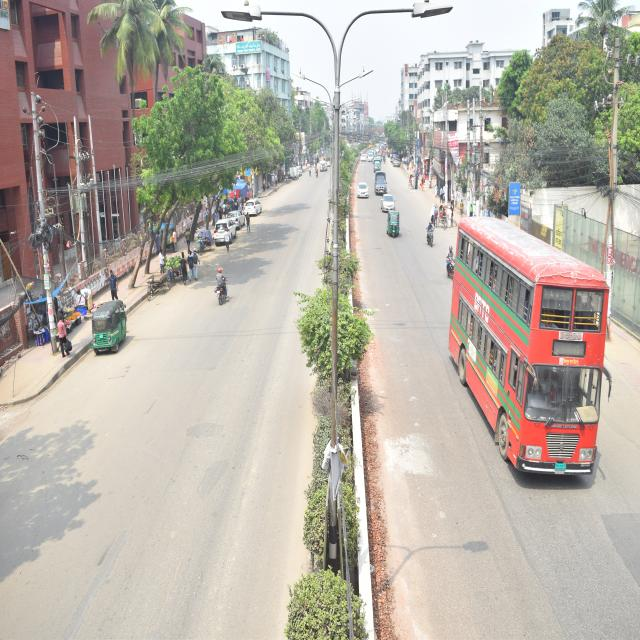bus: (447, 214, 611, 491)
car: (213, 216, 238, 248), (241, 196, 264, 220), (372, 171, 392, 195), (380, 191, 400, 213), (228, 209, 248, 230), (354, 182, 371, 200)
motorbike: (214, 268, 232, 306), (442, 247, 456, 280), (423, 222, 437, 249)
